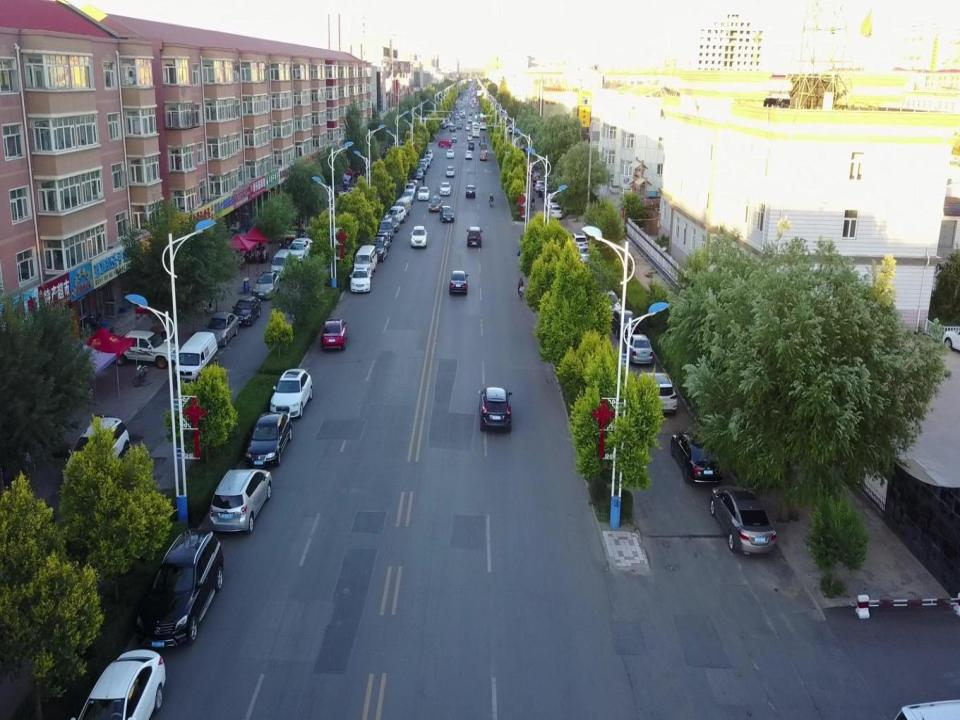bus: (471, 122, 480, 138), (480, 116, 487, 130)
car: (137, 529, 224, 648), (73, 650, 166, 718), (63, 416, 130, 499), (710, 484, 778, 553), (210, 468, 272, 532), (672, 431, 724, 484), (245, 411, 292, 466), (115, 329, 180, 368), (270, 369, 314, 418), (638, 371, 678, 412), (477, 387, 513, 429), (204, 312, 240, 348), (231, 296, 261, 326), (320, 318, 348, 350), (625, 335, 653, 363), (610, 309, 638, 337), (252, 271, 280, 298), (596, 288, 621, 312), (288, 238, 311, 264), (350, 266, 371, 292), (449, 269, 469, 294), (371, 236, 388, 261), (573, 244, 594, 264), (386, 205, 406, 226), (410, 224, 427, 247), (379, 216, 394, 242), (570, 232, 588, 253), (466, 226, 484, 247), (338, 186, 364, 200), (439, 205, 455, 222), (428, 194, 444, 211), (377, 230, 390, 250), (548, 205, 562, 219), (545, 195, 558, 210), (387, 216, 399, 232), (464, 184, 476, 198), (439, 182, 451, 196), (418, 186, 430, 200), (402, 189, 414, 203), (537, 184, 549, 197), (408, 179, 420, 192), (404, 182, 415, 196), (542, 188, 554, 200), (535, 181, 545, 192), (532, 171, 542, 182), (413, 168, 423, 179), (422, 156, 431, 168), (424, 150, 434, 160), (446, 166, 455, 177), (417, 162, 426, 173), (446, 149, 455, 158), (419, 158, 426, 169), (530, 164, 538, 173), (479, 152, 487, 160), (518, 147, 525, 156), (465, 150, 472, 159), (468, 140, 474, 150), (451, 134, 457, 143), (450, 124, 456, 132), (456, 122, 462, 129), (507, 127, 512, 133), (505, 123, 509, 129), (466, 124, 470, 130)
truck: (480, 142, 487, 154)
van: (174, 330, 218, 387), (270, 248, 292, 279), (354, 245, 378, 273), (393, 197, 411, 219), (438, 138, 451, 148), (467, 133, 472, 141)
